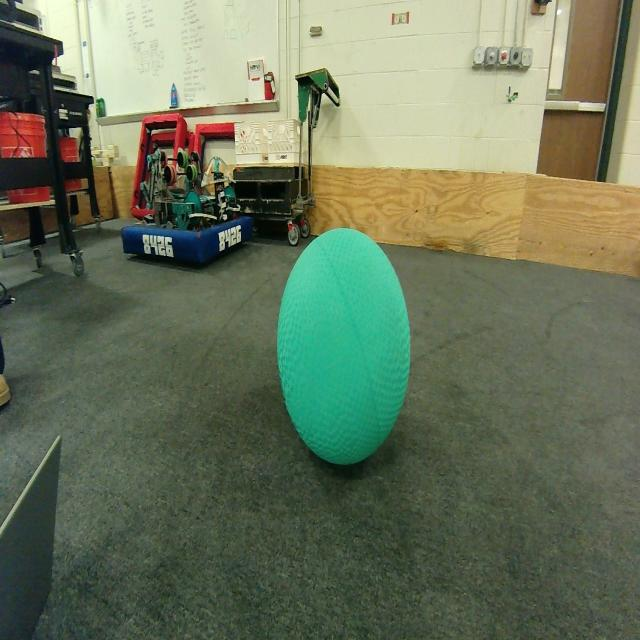algae: (278, 224, 412, 472)
